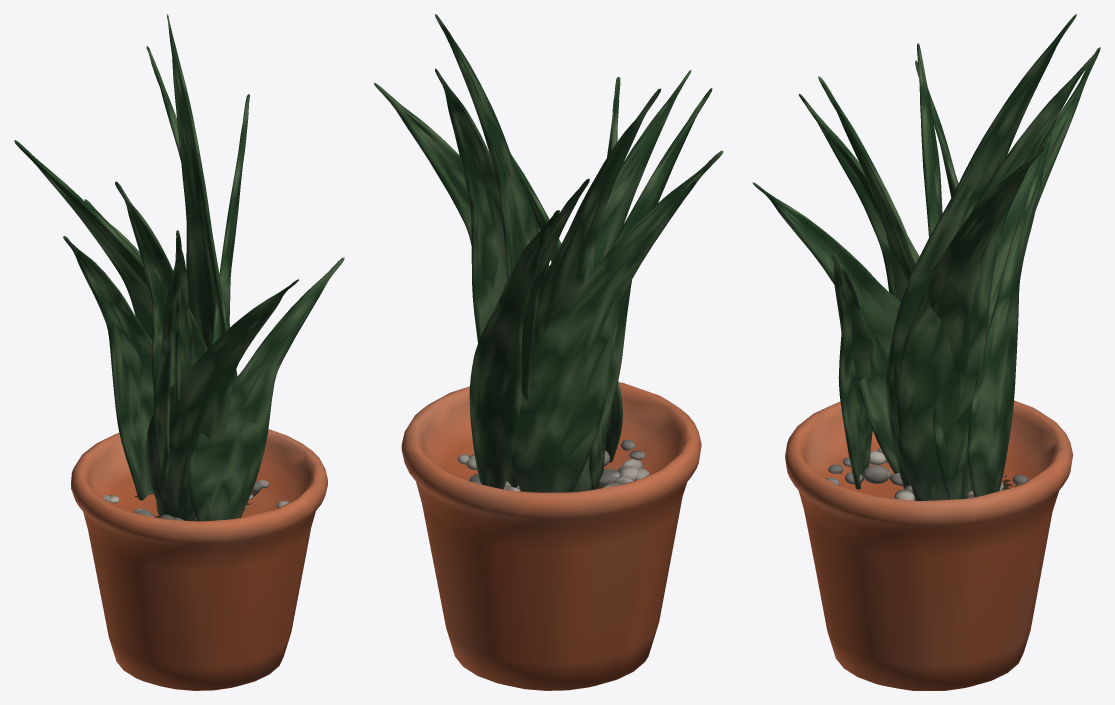
The model's file is plant.glb.
3 renders of one model, left to right at view 1: azimuth 30°, elevation 25°; view 2: azimuth 150°, elevation 25°; view 3: azimuth 270°, elevation 25°, orthographic. The views are drawn at different scales.
Visible parts, largest first — view 1: Plant_Leaves, Plant_Pot, Plant_Pebbles; view 2: Plant_Leaves, Plant_Pot, Plant_Pebbles; view 3: Plant_Leaves, Plant_Pot, Plant_Pebbles.
Boxes of the visible parts, x1=… form: Plant_Leaves: x1=14, y1=14, x2=344, y2=521; Plant_Pot: x1=71, y1=429, x2=327, y2=690; Plant_Pebbles: x1=104, y1=480, x2=289, y2=520; Plant_Leaves: x1=374, y1=14, x2=723, y2=492; Plant_Pot: x1=401, y1=382, x2=701, y2=690; Plant_Pebbles: x1=457, y1=439, x2=649, y2=491; Plant_Leaves: x1=752, y1=14, x2=1100, y2=500; Plant_Pot: x1=785, y1=400, x2=1072, y2=690; Plant_Pebbles: x1=826, y1=448, x2=1028, y2=500.
Bounding box in the file's own units: 0.1366 × 0.3051 × 0.1453.
